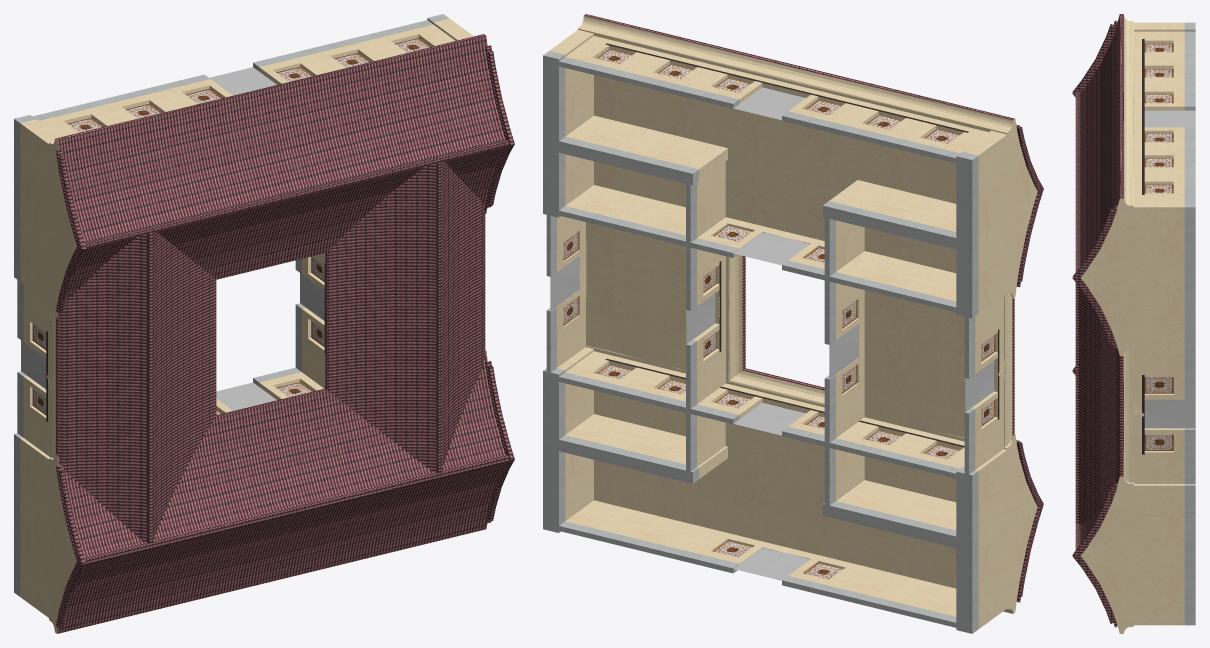
The model's file is SHY01.gltf.
3 views of the same model, side by side, from view 1: azimuth 30°, elevation 25°; view 2: azimuth 150°, elevation 25°; view 3: azimuth 270°, elevation 25° (orthographic). The views are drawn at different scales.
Bounding box in the file's own units: 18.13 × 19.69 × 5.07.
Materials: 6 (5 with a texture image).
